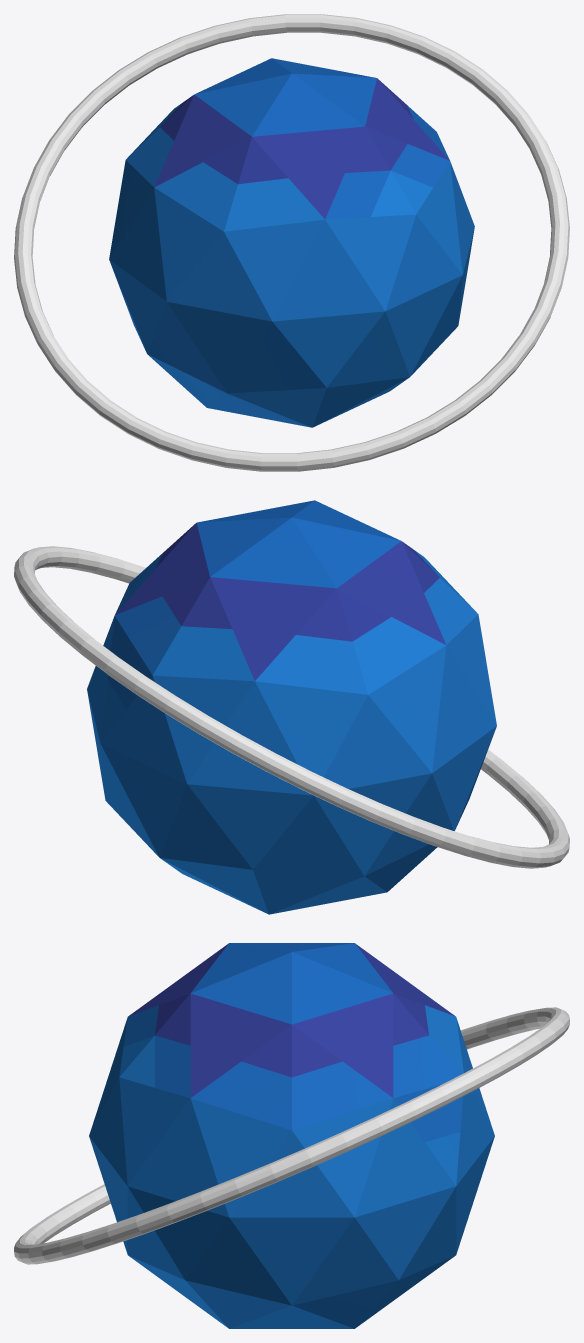
Rendered from blue-ring.fbx.
3 views of the same model, one above another, from view 1: azimuth 30°, elevation 25°; view 2: azimuth 150°, elevation 25°; view 3: azimuth 270°, elevation 25° (orthographic). The views are drawn at different scales.
Visible parts, largest first — view 1: Icosphere, Torus; view 2: Icosphere, Torus; view 3: Icosphere, Torus.
Boxes of the visible parts, bbox=[...] form: Icosphere: bbox=[109, 58, 474, 427]; Torus: bbox=[14, 14, 569, 471]; Icosphere: bbox=[87, 500, 496, 914]; Torus: bbox=[14, 546, 569, 868]; Icosphere: bbox=[89, 943, 494, 1328]; Torus: bbox=[14, 1007, 569, 1264].
Bounding box in the file's own units: 284 × 200 × 274.
